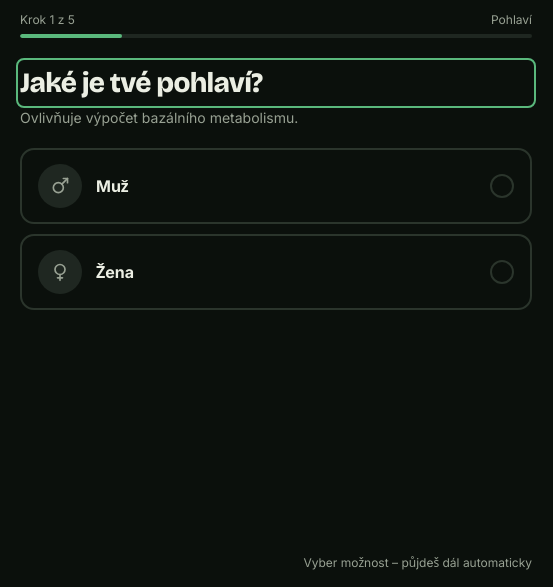
Cílový průvodce › po výběru karty automaticky postoupí na další otázku
Check: the heading "Jaké je tvé pohlaví?" is shown, box x1=20 y1=66 x2=262 y2=100
Click the radio button labelled "Muž" at (60, 186), box x1=20 y1=148 x2=532 y2=224
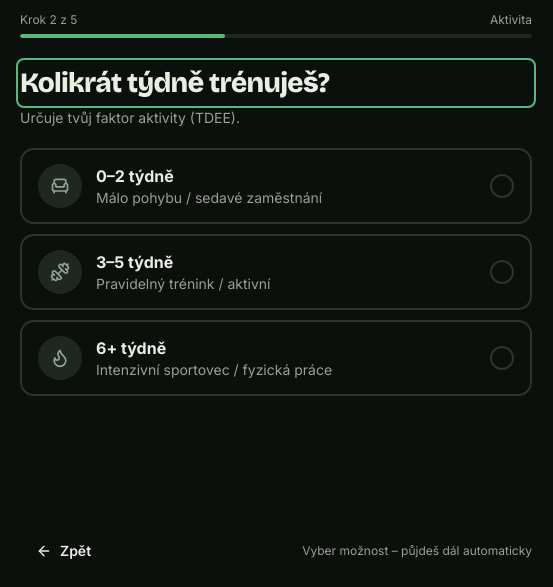
Check: the heading "Kolikrát týdně trénuješ?" is shown, box x1=20 y1=66 x2=329 y2=100
